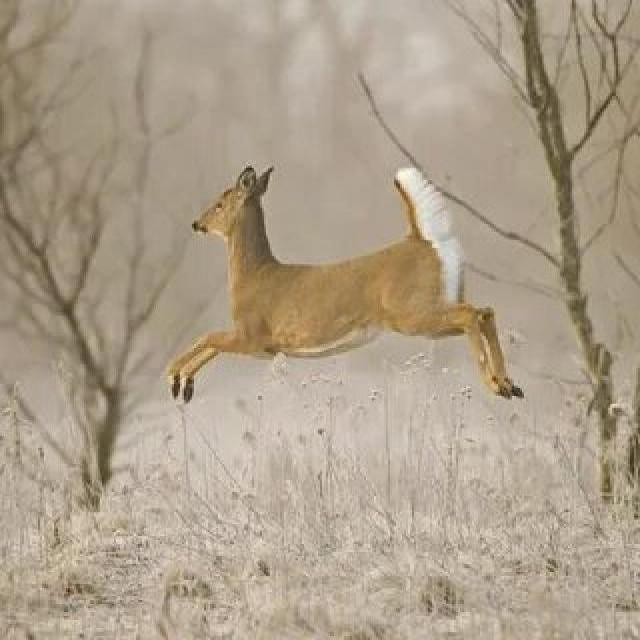deer: (83, 120, 551, 444)
